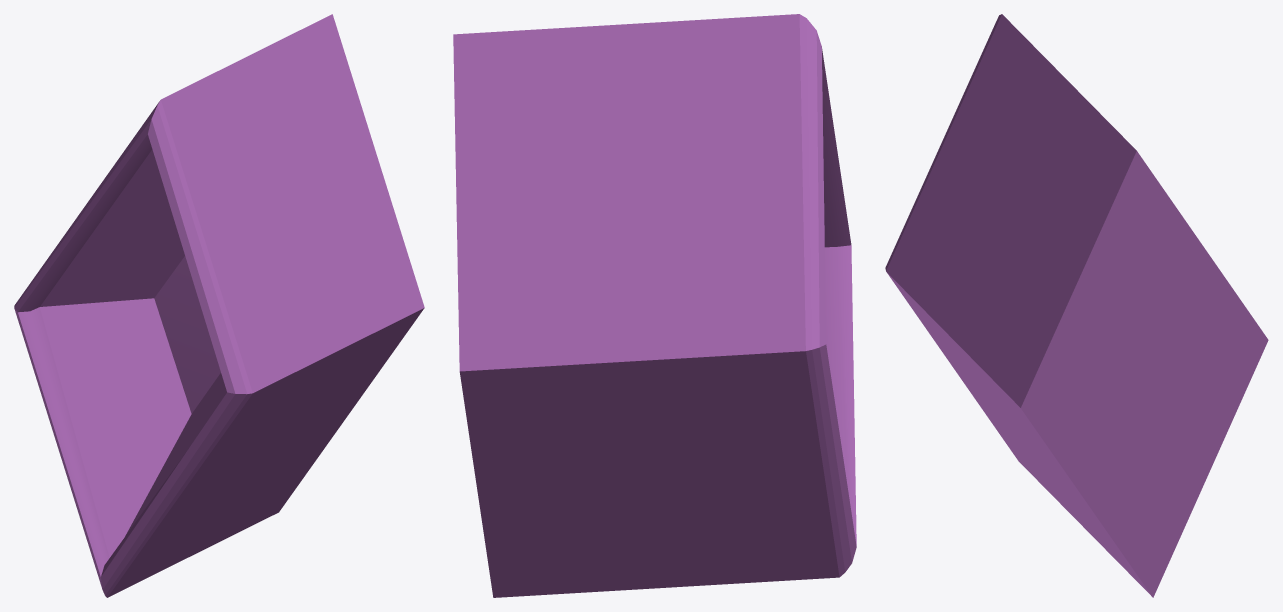
The model's file is BL5_8shapes_Kite_Classic_Metal.001 2.glb.
3 views of the same model, side by side, from view 1: azimuth 30°, elevation 25°; view 2: azimuth 150°, elevation 25°; view 3: azimuth 270°, elevation 25° (orthographic). The views are drawn at different scales.
Visible parts, largest first — view 1: BL5_8shapes_Kite_Classic_Metal.001; view 2: BL5_8shapes_Kite_Classic_Metal.001; view 3: BL5_8shapes_Kite_Classic_Metal.001.
Part boxes in pixels (bbox=[...]): BL5_8shapes_Kite_Classic_Metal.001: bbox=[14, 14, 424, 597]; BL5_8shapes_Kite_Classic_Metal.001: bbox=[453, 14, 856, 597]; BL5_8shapes_Kite_Classic_Metal.001: bbox=[885, 14, 1268, 597].
Size of the model in its own units: 0.4628 by 0.6428 by 0.4534.
